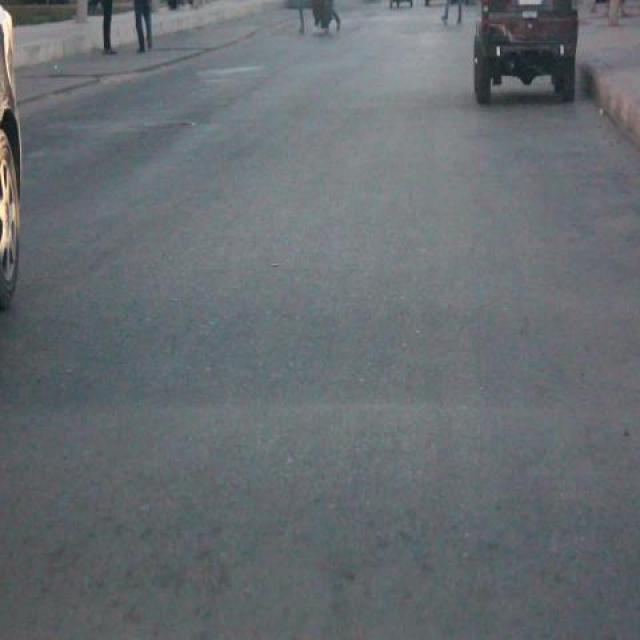Unmarked Bump: (2, 393, 638, 639)
